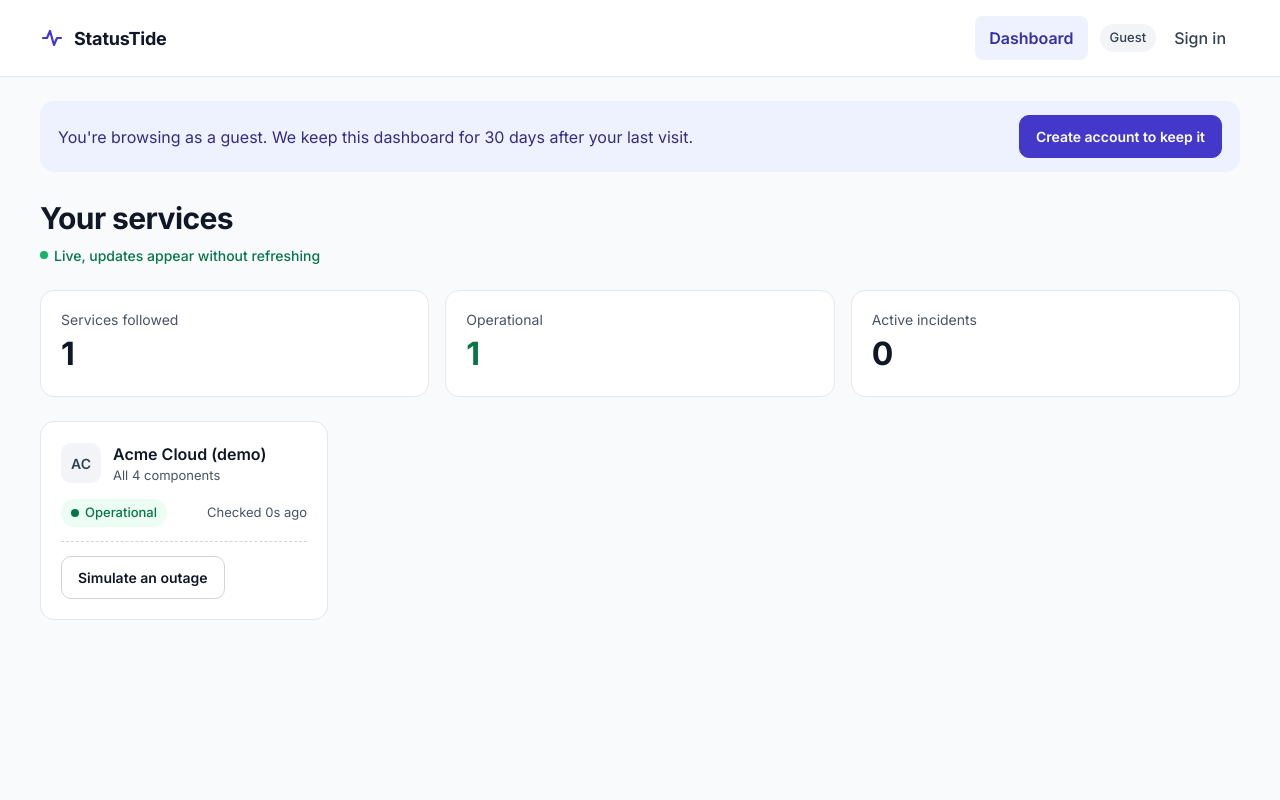
Test: App › upgrades a guest in place, keeping the same dashboard and connection
Click the button "Create account to keep it" at point(1120, 136), box [1019, 115, 1222, 158]
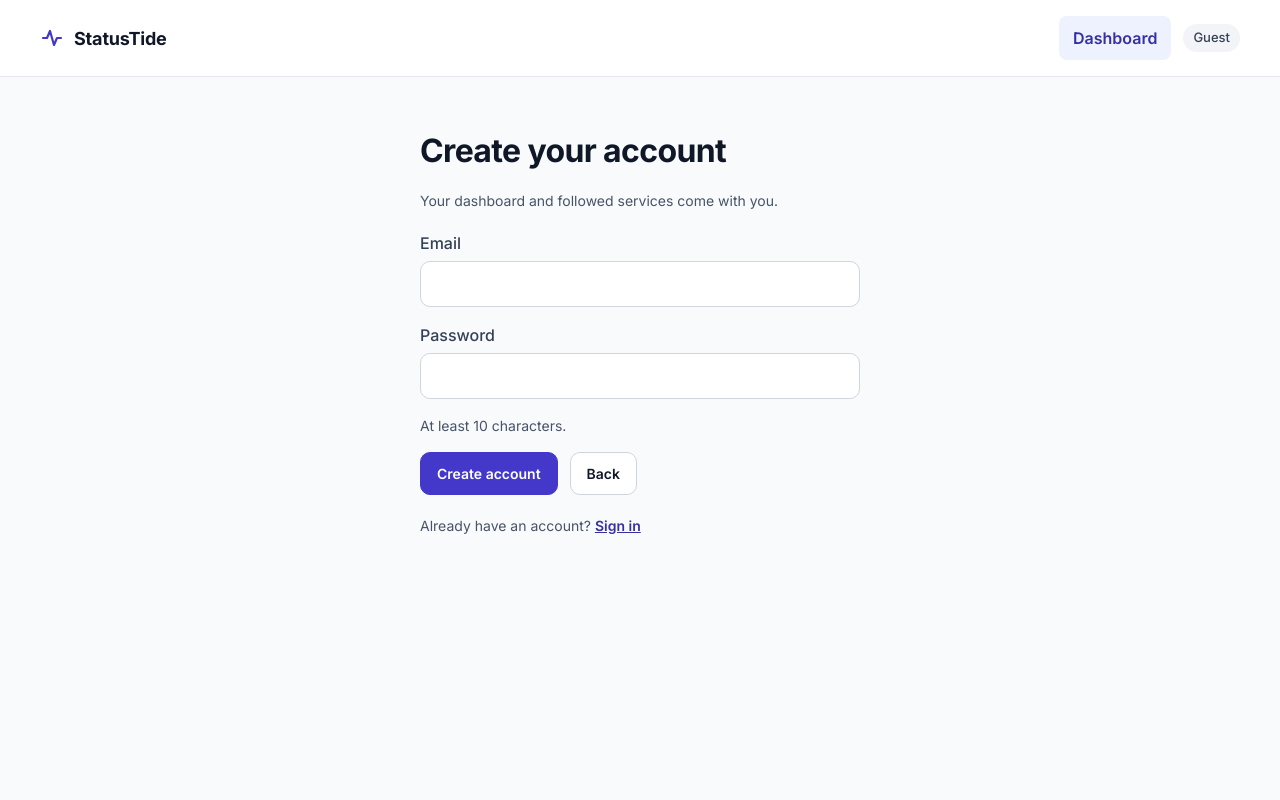
Now the text "Your dashboard and followed services come with you." is shown, box [420, 192, 778, 209]
Type "new@acme.example" into the field labelled "Email" at point(640, 284), box [420, 261, 860, 307]
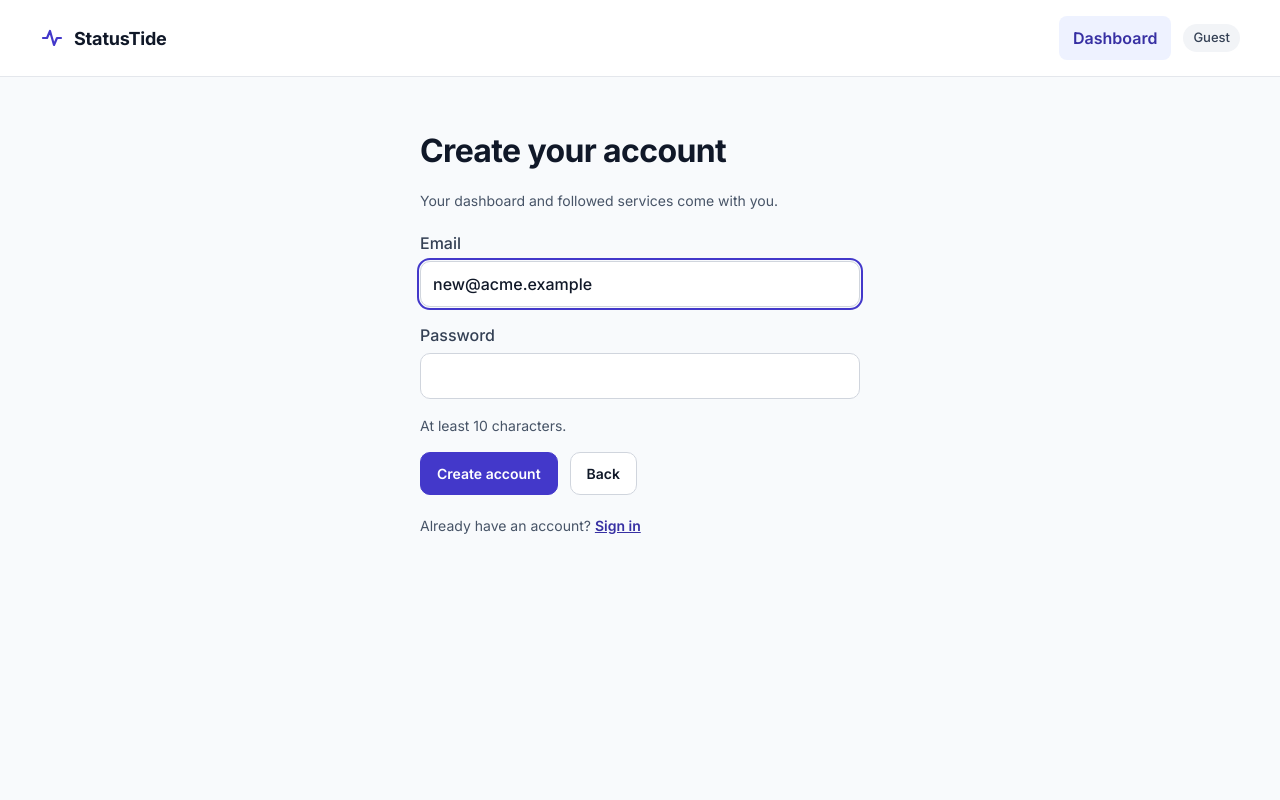
Type "correct-horse-battery" into the password field labelled "Password" at point(640, 376), box [420, 353, 860, 399]
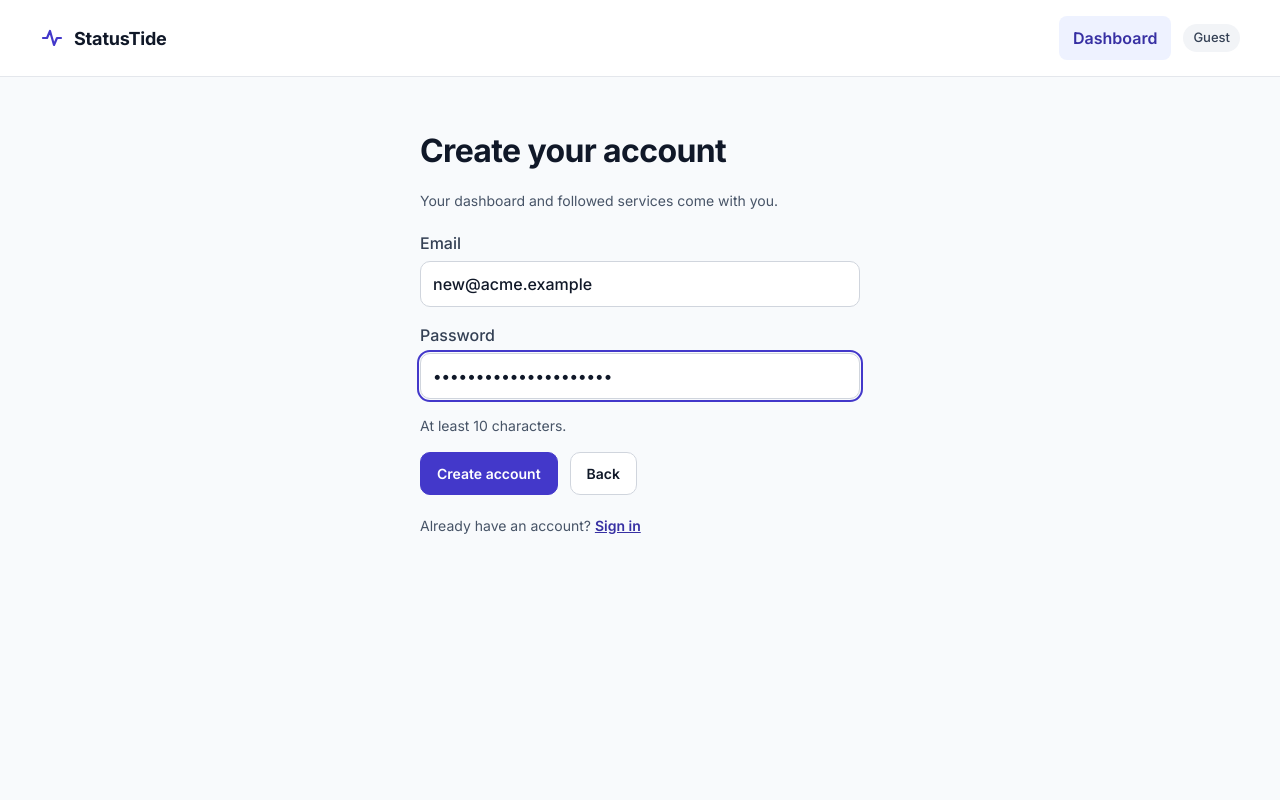
Click the button "Create account" at point(489, 473), box [420, 452, 558, 495]
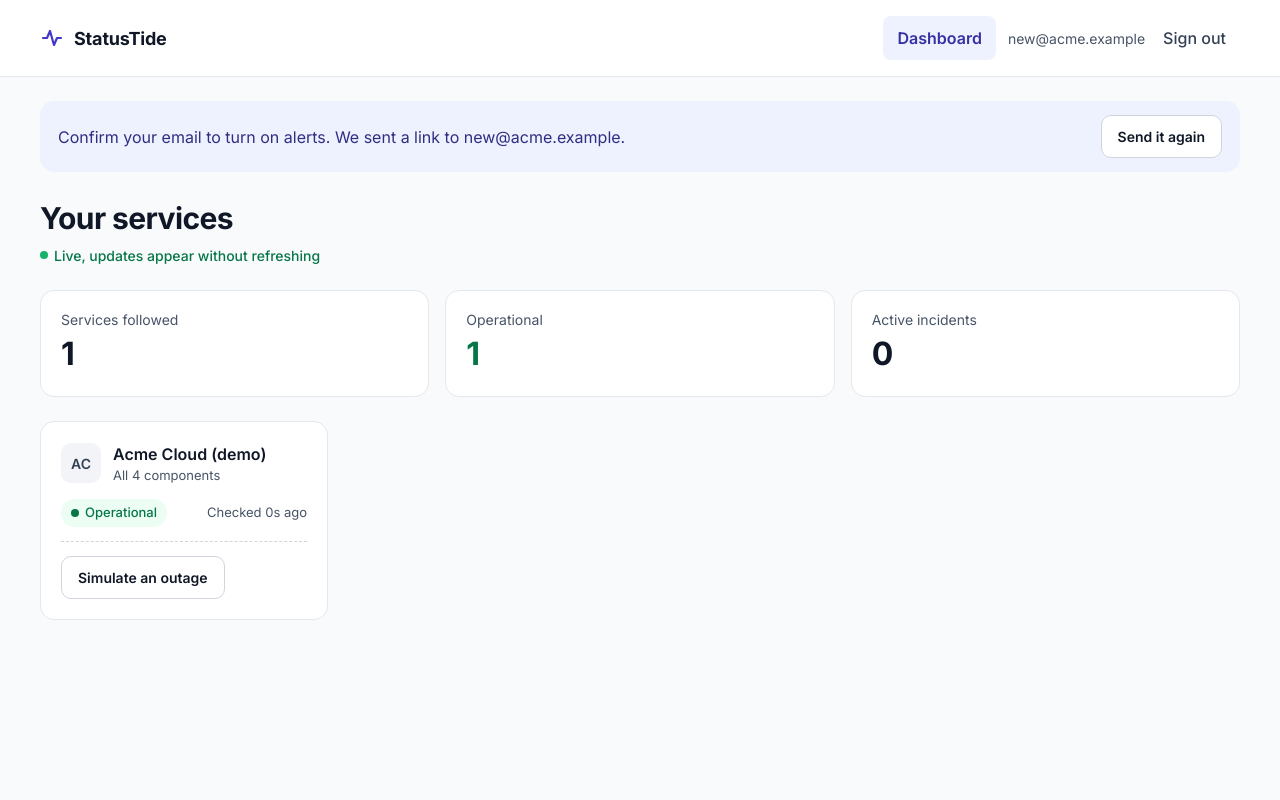
Now the element "Acme Cloud (demo)" is shown, box [40, 420, 328, 620]
Now the element named "Email confirmation" shows "new@acme.example", box [464, 126, 621, 146]
